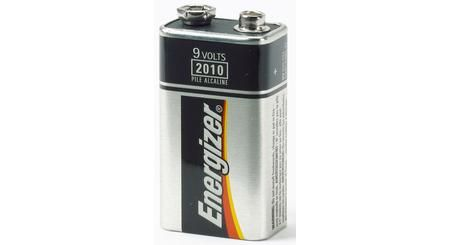9V: (154, 5, 295, 240)
